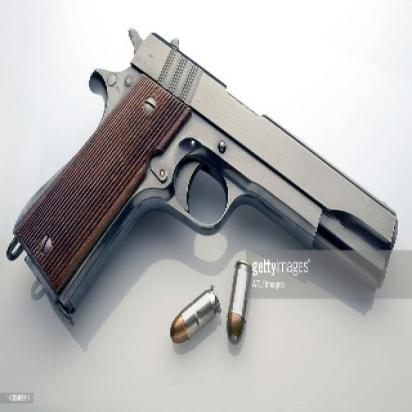Gun: (3, 23, 399, 322)
